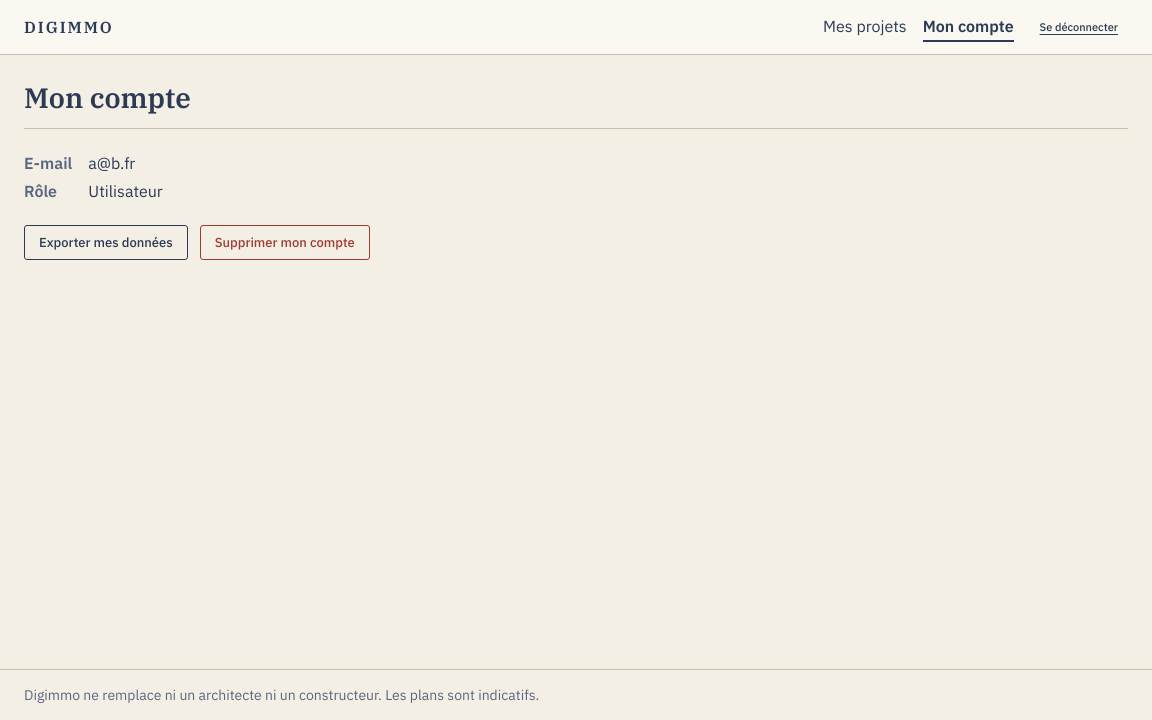
Test: mon compte › export en erreur : alerte
Click the button "Exporter mes données" at (106,242), box [24,225,188,260]
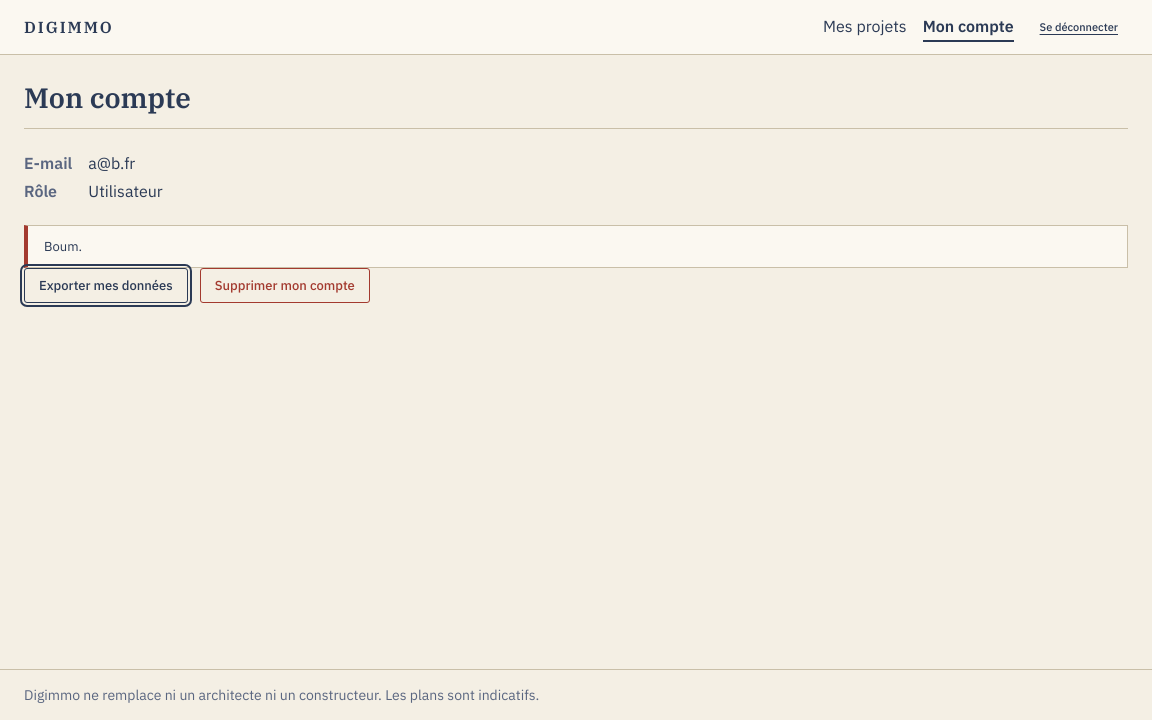
Result: the message reads "Boum." at [44,238,82,255]
